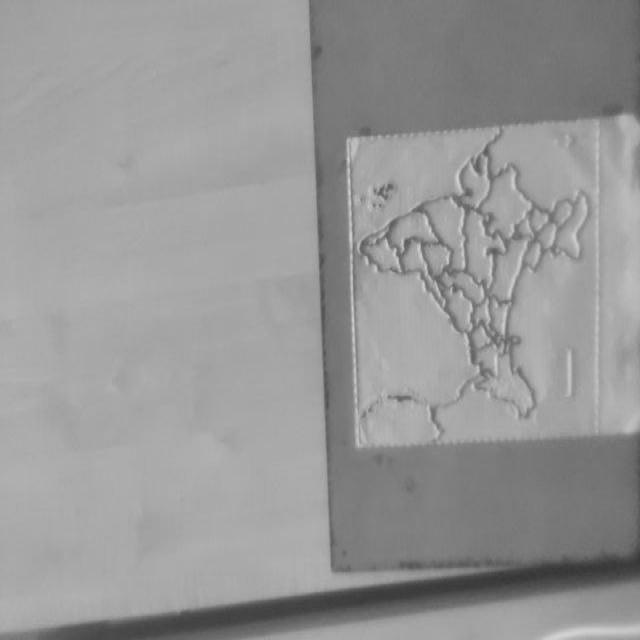map: (345, 118, 611, 446)
